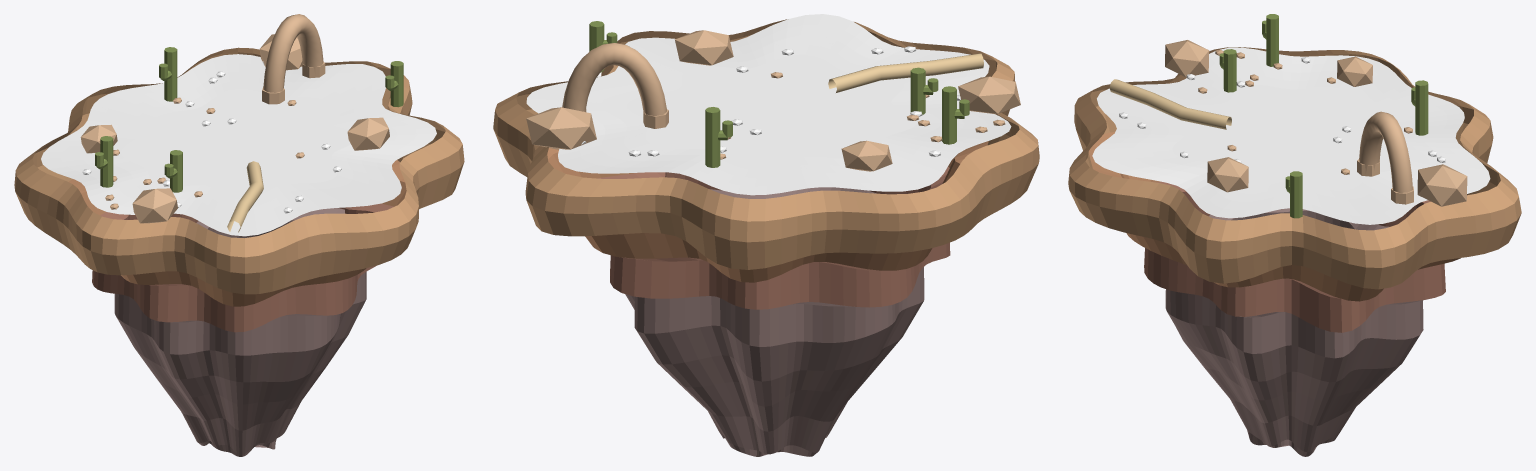
The model's file is FI-022-Redglass-Spire.glb.
The picture shows the model from 3 angles, left to right: view 1: azimuth 30°, elevation 25°; view 2: azimuth 150°, elevation 25°; view 3: azimuth 270°, elevation 25°; orthographic projection. The views are drawn at different scales.
Parts seen in each view (by area): view 1: FI-022_StratifiedFloatingCliff, FI-022_BuildableTop, SunspineNaturalArch, SandstoneBoulder_00, SandstoneBoulder_03, DryWash, SandstoneBoulder_02, Saguaro_02_Trunk, Saguaro_00_Trunk, SandstoneBoulder_01, Saguaro_03_Trunk, Saguaro_01_Trunk; view 2: FI-022_StratifiedFloatingCliff, FI-022_BuildableTop, SunspineNaturalArch, SandstoneBoulder_01, DryWash, SandstoneBoulder_00, SandstoneBoulder_03, SandstoneBoulder_02, Saguaro_02_Trunk, Saguaro_00_Trunk, Saguaro_01_Trunk; view 3: FI-022_StratifiedFloatingCliff, FI-022_BuildableTop, SunspineNaturalArch, DryWash, SandstoneBoulder_01, SandstoneBoulder_00, SandstoneBoulder_03, SandstoneBoulder_02, Saguaro_02_Trunk, Saguaro_00_Trunk, Saguaro_03_Trunk, Saguaro_01_Trunk.
Boxes of the visible parts, left/top/right/bottom form: FI-022_StratifiedFloatingCliff: left=14, top=47, right=464, bottom=456; FI-022_BuildableTop: left=41, top=54, right=436, bottom=236; SunspineNaturalArch: left=263, top=14, right=323, bottom=92; SandstoneBoulder_00: left=132, top=188, right=177, bottom=223; SandstoneBoulder_03: left=347, top=117, right=389, bottom=150; DryWash: left=227, top=161, right=263, bottom=232; SandstoneBoulder_02: left=80, top=124, right=117, bottom=153; Saguaro_02_Trunk: left=164, top=47, right=177, bottom=101; Saguaro_00_Trunk: left=100, top=136, right=113, bottom=187; SandstoneBoulder_01: left=259, top=34, right=302, bottom=70; Saguaro_03_Trunk: left=390, top=61, right=403, bottom=107; Saguaro_01_Trunk: left=170, top=150, right=182, bottom=192; FI-022_StratifiedFloatingCliff: left=493, top=19, right=1039, bottom=456; FI-022_BuildableTop: left=526, top=14, right=1011, bottom=195; SunspineNaturalArch: left=562, top=43, right=666, bottom=116; SandstoneBoulder_01: left=526, top=107, right=596, bottom=149; DryWash: left=828, top=53, right=983, bottom=92; SandstoneBoulder_00: left=958, top=76, right=1020, bottom=114; SandstoneBoulder_03: left=674, top=30, right=733, bottom=65; SandstoneBoulder_02: left=841, top=140, right=892, bottom=171; Saguaro_02_Trunk: left=705, top=107, right=720, bottom=167; Saguaro_00_Trunk: left=942, top=86, right=956, bottom=144; Saguaro_01_Trunk: left=910, top=67, right=925, bottom=114; FI-022_StratifiedFloatingCliff: left=1068, top=47, right=1521, bottom=456; FI-022_BuildableTop: left=1092, top=47, right=1490, bottom=224; SunspineNaturalArch: left=1359, top=111, right=1412, bottom=192; DryWash: left=1109, top=79, right=1231, bottom=129; SandstoneBoulder_01: left=1417, top=164, right=1467, bottom=206; SandstoneBoulder_00: left=1165, top=40, right=1209, bottom=77; SandstoneBoulder_03: left=1207, top=157, right=1248, bottom=192; SandstoneBoulder_02: left=1337, top=56, right=1372, bottom=86; Saguaro_02_Trunk: left=1415, top=80, right=1428, bottom=135; Saguaro_00_Trunk: left=1266, top=14, right=1278, bottom=66; Saguaro_03_Trunk: left=1290, top=171, right=1302, bottom=218; Saguaro_01_Trunk: left=1223, top=49, right=1236, bottom=92.
Size of the model in its own units: 11.81 by 10.3 by 11.36.
